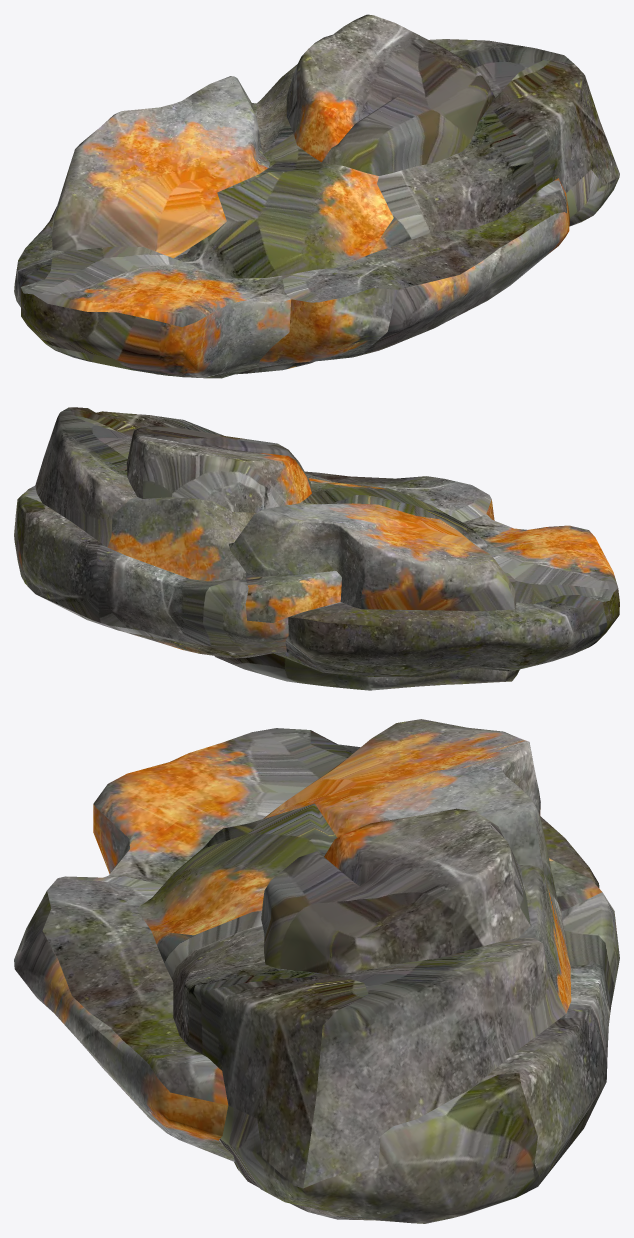
The picture shows the model from 3 angles, top to bottom: view 1: azimuth 30°, elevation 25°; view 2: azimuth 150°, elevation 25°; view 3: azimuth 270°, elevation 25°; orthographic projection. The views are drawn at different scales.
Visible parts, largest first — view 1: SM_Mining_Node_Large_Copper_02_LOD0; view 2: SM_Mining_Node_Large_Copper_02_LOD0; view 3: SM_Mining_Node_Large_Copper_02_LOD0.
Part boxes in pixels (x1=…): SM_Mining_Node_Large_Copper_02_LOD0: x1=14, y1=14, x2=619, y2=378; SM_Mining_Node_Large_Copper_02_LOD0: x1=14, y1=407, x2=619, y2=690; SM_Mining_Node_Large_Copper_02_LOD0: x1=14, y1=719, x2=619, y2=1223.
Size of the model in its own units: 5.52 by 2.18 by 3.38.
